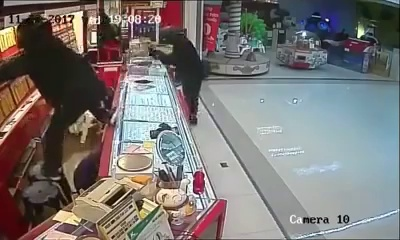helmet: (12, 16, 54, 49), (155, 24, 179, 41)
